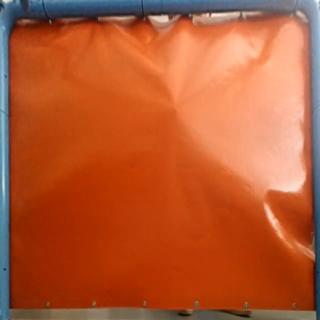Hit-hRxx: (169, 103, 186, 123)
